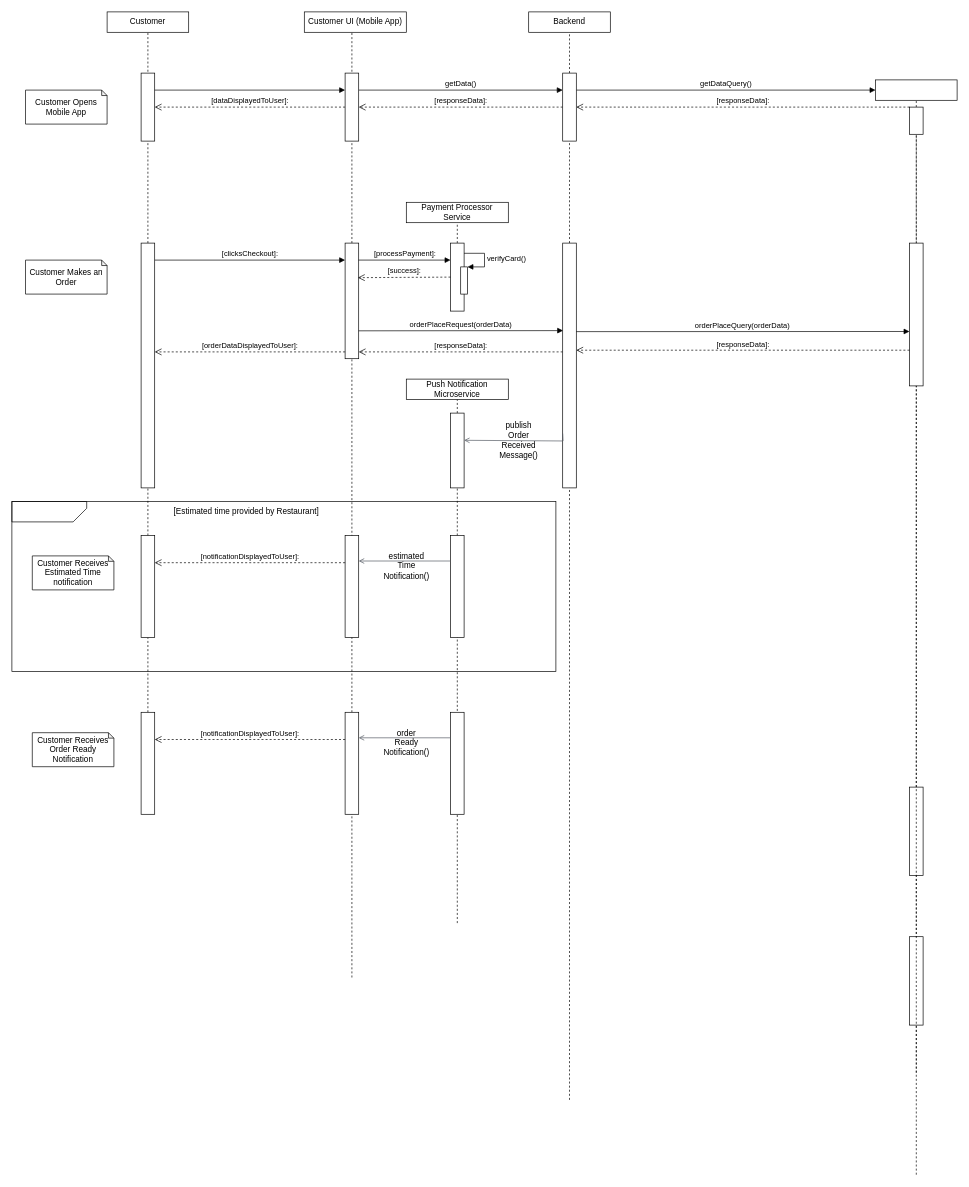
This 969x1187 diagram has some shape labels left out. The shapes that lost their labels are listed below. From the top down, each one's centre as x and y in pixels, then its label:
At point (916, 89): "Database".
At point (49, 511): "Opt".
